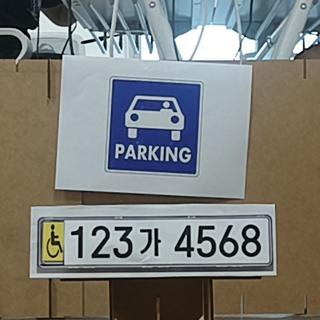disabled: (40, 221, 65, 262)
plate: (38, 216, 273, 268)
